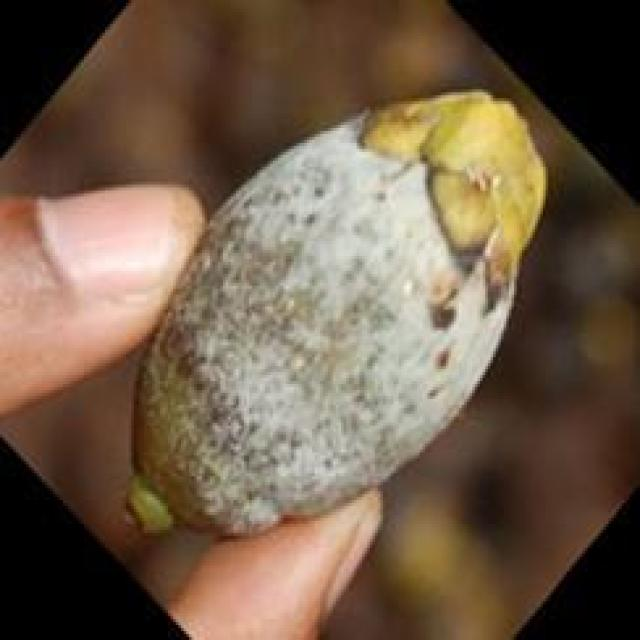damaged: (131, 89, 548, 539)
